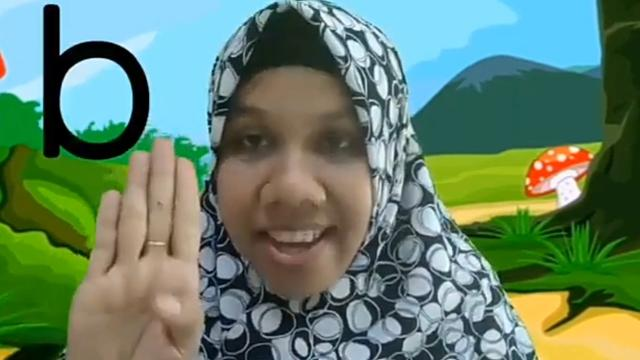B: (68, 138, 204, 360)
